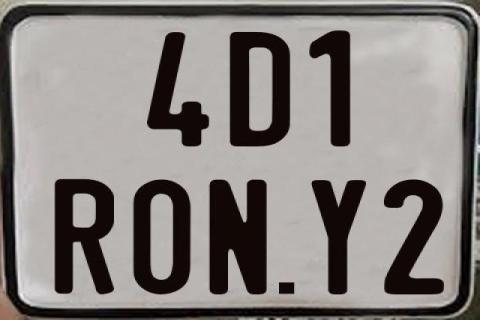0: (146, 30, 210, 146), (383, 177, 445, 293), (132, 178, 192, 294), (308, 29, 354, 149)
D: (230, 31, 290, 145)
N: (208, 180, 267, 296)
R: (54, 179, 113, 299)
Y: (310, 180, 365, 298)
